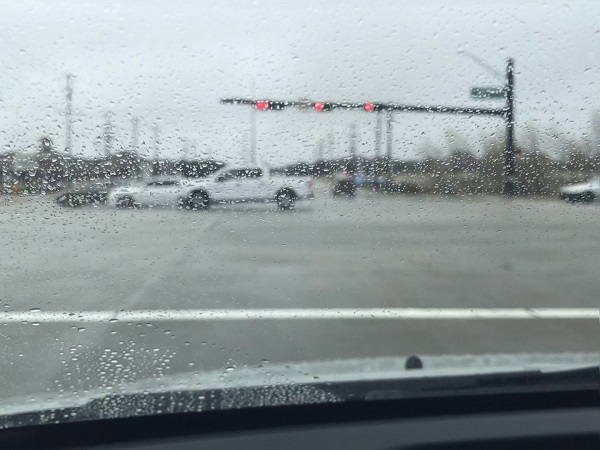car: (113, 174, 193, 207), (53, 178, 109, 205), (331, 170, 358, 195)
traffic light: (311, 100, 330, 111), (254, 99, 268, 112), (362, 101, 376, 112)
truck: (180, 164, 316, 210)
